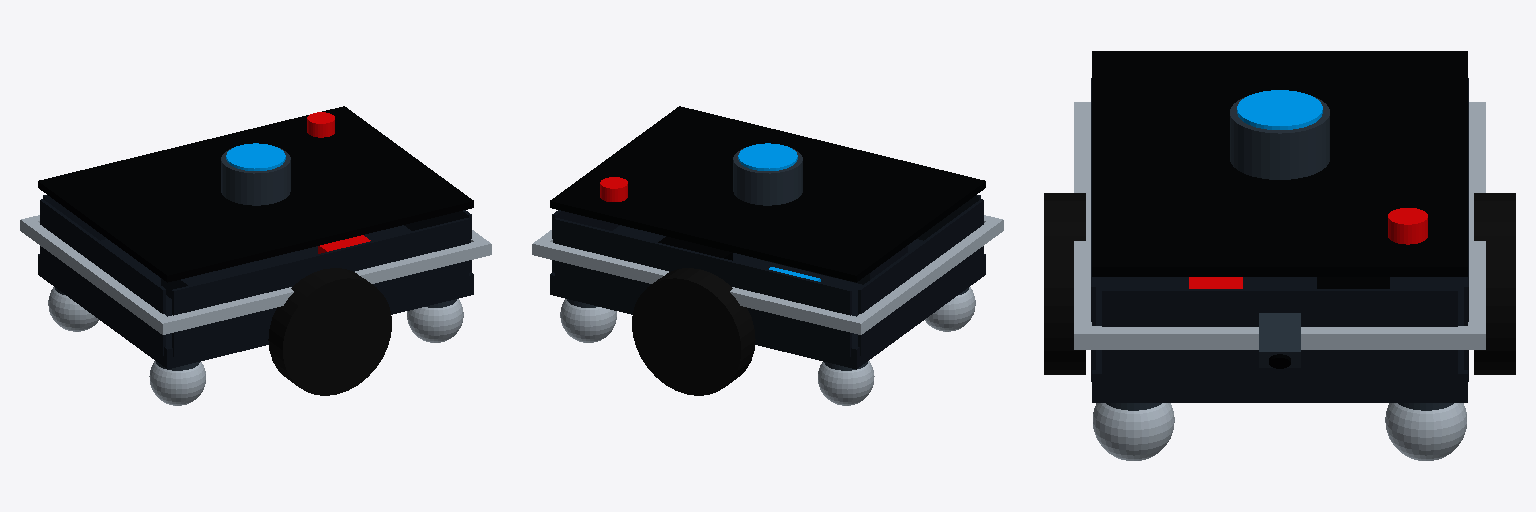
The robot description file, URDF, robot "agv_01":
<?xml version="1.0"?>
<robot name="agv_01">
  <!-- AGV-01 concept model: 600 L x 450 W x 320 H mm. Units are metres. -->
  <material name="aluminium"><color rgba="0.68 0.72 0.76 1"/></material>
  <material name="dark_panel"><color rgba="0.09 0.11 0.14 1"/></material>
  <material name="black"><color rgba="0.025 0.03 0.035 1"/></material>
  <material name="rubber"><color rgba="0.08 0.08 0.08 1"/></material>
  <material name="blue"><color rgba="0.0 0.65 1.0 1"/></material>
  <material name="red"><color rgba="0.9 0.03 0.04 1"/></material>
  <material name="sensor"><color rgba="0.18 0.22 0.26 1"/></material>

  <!-- Chassis origin is at the geometric centre of the base footprint, at floor level. -->
  <link name="base_link">
    <inertial><origin xyz="0 0 0.105"/><mass value="12.0"/><inertia ixx="0.45" ixy="0" ixz="0" iyy="0.75" iyz="0" izz="0.95"/></inertial>
    <visual><origin xyz="0 0 0.105"/><geometry><box size="0.56 0.41 0.035"/></geometry><material name="dark_panel"/></visual>
    <collision><origin xyz="0 0 0.105"/><geometry><box size="0.56 0.41 0.035"/></geometry></collision>
  </link>

  <!-- 20x20 mm aluminium extrusion perimeter: outer size 600 x 450 mm -->
  <link name="rail_left"><inertial><mass value="0.5"/><inertia ixx="0.01" ixy="0" ixz="0" iyy="0.01" iyz="0" izz="0.01"/></inertial><visual><origin xyz="0 0 0.17"/><geometry><box size="0.60 0.02 0.02"/></geometry><material name="aluminium"/></visual><collision><origin xyz="0 0 0.17"/><geometry><box size="0.60 0.02 0.02"/></geometry></collision></link>
  <joint name="rail_left_joint" type="fixed"><parent link="base_link"/><child link="rail_left"/><origin xyz="0 0.215 0"/></joint>
  <link name="rail_right"><inertial><mass value="0.5"/><inertia ixx="0.01" ixy="0" ixz="0" iyy="0.01" iyz="0" izz="0.01"/></inertial><visual><origin xyz="0 0 0.17"/><geometry><box size="0.60 0.02 0.02"/></geometry><material name="aluminium"/></visual><collision><origin xyz="0 0 0.17"/><geometry><box size="0.60 0.02 0.02"/></geometry></collision></link>
  <joint name="rail_right_joint" type="fixed"><parent link="base_link"/><child link="rail_right"/><origin xyz="0 -0.215 0"/></joint>
  <link name="rail_front"><inertial><mass value="0.35"/><inertia ixx="0.01" ixy="0" ixz="0" iyy="0.01" iyz="0" izz="0.01"/></inertial><visual><origin xyz="0 0 0.17"/><geometry><box size="0.02 0.41 0.02"/></geometry><material name="aluminium"/></visual><collision><origin xyz="0 0 0.17"/><geometry><box size="0.02 0.41 0.02"/></geometry></collision></link>
  <joint name="rail_front_joint" type="fixed"><parent link="base_link"/><child link="rail_front"/><origin xyz="0.29 0 0"/></joint>
  <link name="rail_rear"><inertial><mass value="0.35"/><inertia ixx="0.01" ixy="0" ixz="0" iyy="0.01" iyz="0" izz="0.01"/></inertial><visual><origin xyz="0 0 0.17"/><geometry><box size="0.02 0.41 0.02"/></geometry><material name="aluminium"/></visual><collision><origin xyz="0 0 0.17"/><geometry><box size="0.02 0.41 0.02"/></geometry></collision></link>
  <joint name="rail_rear_joint" type="fixed"><parent link="base_link"/><child link="rail_rear"/><origin xyz="-0.29 0 0"/></joint>

  <!-- Dark side enclosure panels -->
  <link name="left_panel"><inertial><mass value="1.0"/><inertia ixx="0.02" ixy="0" ixz="0" iyy="0.02" iyz="0" izz="0.02"/></inertial><visual><origin xyz="0 0 0.165"/><geometry><box size="0.54 0.006 0.115"/></geometry><material name="dark_panel"/></visual></link>
  <joint name="left_panel_joint" type="fixed"><parent link="base_link"/><child link="left_panel"/><origin xyz="0 0.204 0"/></joint>
  <link name="right_panel"><inertial><mass value="1.0"/><inertia ixx="0.02" ixy="0" ixz="0" iyy="0.02" iyz="0" izz="0.02"/></inertial><visual><origin xyz="0 0 0.165"/><geometry><box size="0.54 0.006 0.115"/></geometry><material name="dark_panel"/></visual></link>
  <joint name="right_panel_joint" type="fixed"><parent link="base_link"/><child link="right_panel"/><origin xyz="0 -0.204 0"/></joint>
  <link name="front_panel"><inertial><mass value="0.5"/><inertia ixx="0.01" ixy="0" ixz="0" iyy="0.01" iyz="0" izz="0.01"/></inertial><visual><origin xyz="0 0 0.165"/><geometry><box size="0.006 0.39 0.115"/></geometry><material name="dark_panel"/></visual></link>
  <joint name="front_panel_joint" type="fixed"><parent link="base_link"/><child link="front_panel"/><origin xyz="0.279 0 0"/></joint>
  <link name="rear_panel"><inertial><mass value="0.5"/><inertia ixx="0.01" ixy="0" ixz="0" iyy="0.01" iyz="0" izz="0.01"/></inertial><visual><origin xyz="0 0 0.165"/><geometry><box size="0.006 0.39 0.115"/></geometry><material name="dark_panel"/></visual></link>
  <joint name="rear_panel_joint" type="fixed"><parent link="base_link"/><child link="rear_panel"/><origin xyz="-0.279 0 0"/></joint>

  <!-- Top cover -->
  <link name="top_cover"><inertial><mass value="2.0"/><inertia ixx="0.1" ixy="0" ixz="0" iyy="0.1" iyz="0" izz="0.1"/></inertial><visual><origin xyz="0 0 0.245"/><geometry><box size="0.56 0.41 0.012"/></geometry><material name="black"/></visual><collision><origin xyz="0 0 0.245"/><geometry><box size="0.56 0.41 0.012"/></geometry></collision></link>
  <joint name="top_cover_joint" type="fixed"><parent link="base_link"/><child link="top_cover"/><origin xyz="0 0 0"/></joint>

  <!-- Differential drive wheels. Cylinder local axis is rotated to align with Y. -->
  <link name="left_drive_wheel"><inertial><origin xyz="0 0 0"/><mass value="2.0"/><inertia ixx="0.012" ixy="0" ixz="0" iyy="0.006" iyz="0" izz="0.012"/></inertial><visual><origin rpy="1.57079632679 0 0"/><geometry><cylinder radius="0.10" length="0.045"/></geometry><material name="rubber"/></visual><collision><origin rpy="1.57079632679 0 0"/><geometry><cylinder radius="0.10" length="0.045"/></geometry></collision></link>
  <joint name="left_drive_joint" type="continuous"><parent link="base_link"/><child link="left_drive_wheel"/><origin xyz="0 0.235 0.10"/><axis xyz="0 1 0"/><limit effort="80" velocity="20"/><dynamics damping="0.05" friction="0.02"/></joint>
  <link name="right_drive_wheel"><inertial><origin xyz="0 0 0"/><mass value="2.0"/><inertia ixx="0.012" ixy="0" ixz="0" iyy="0.006" iyz="0" izz="0.012"/></inertial><visual><origin rpy="1.57079632679 0 0"/><geometry><cylinder radius="0.10" length="0.045"/></geometry><material name="rubber"/></visual><collision><origin rpy="1.57079632679 0 0"/><geometry><cylinder radius="0.10" length="0.045"/></geometry></collision></link>
  <joint name="right_drive_joint" type="continuous"><parent link="base_link"/><child link="right_drive_wheel"/><origin xyz="0 -0.235 0.10"/><axis xyz="0 1 0"/><limit effort="80" velocity="20"/><dynamics damping="0.05" friction="0.02"/></joint>

  <!-- Four ball caster assemblies for isotropic omnidirectional stability -->
  <link name="caster_front_left">
    <inertial><mass value="0.35"/><inertia ixx="0.001" ixy="0" ixz="0" iyy="0.001" iyz="0" izz="0.001"/></inertial>
    <visual><origin xyz="0 0 0.025" rpy="0 0 0"/><geometry><cylinder radius="0.035" length="0.03"/></geometry><material name="sensor"/></visual>
    <visual><origin xyz="0 0 0" rpy="0 0 0"/><geometry><sphere radius="0.045"/></geometry><material name="aluminium"/></visual>
    <collision><origin xyz="0 0 0" rpy="0 0 0"/><geometry><sphere radius="0.045"/></geometry></collision>
  </link>
  <joint name="caster_front_left_joint" type="fixed"><parent link="base_link"/><child link="caster_front_left"/><origin xyz="0.235 0.16 0.045"/></joint>

  <link name="caster_front_right">
    <inertial><mass value="0.35"/><inertia ixx="0.001" ixy="0" ixz="0" iyy="0.001" iyz="0" izz="0.001"/></inertial>
    <visual><origin xyz="0 0 0.025" rpy="0 0 0"/><geometry><cylinder radius="0.035" length="0.03"/></geometry><material name="sensor"/></visual>
    <visual><origin xyz="0 0 0" rpy="0 0 0"/><geometry><sphere radius="0.045"/></geometry><material name="aluminium"/></visual>
    <collision><origin xyz="0 0 0" rpy="0 0 0"/><geometry><sphere radius="0.045"/></geometry></collision>
  </link>
  <joint name="caster_front_right_joint" type="fixed"><parent link="base_link"/><child link="caster_front_right"/><origin xyz="0.235 -0.16 0.045"/></joint>

  <link name="caster_rear_left">
    <inertial><mass value="0.35"/><inertia ixx="0.001" ixy="0" ixz="0" iyy="0.001" iyz="0" izz="0.001"/></inertial>
    <visual><origin xyz="0 0 0.025" rpy="0 0 0"/><geometry><cylinder radius="0.035" length="0.03"/></geometry><material name="sensor"/></visual>
    <visual><origin xyz="0 0 0" rpy="0 0 0"/><geometry><sphere radius="0.045"/></geometry><material name="aluminium"/></visual>
    <collision><origin xyz="0 0 0" rpy="0 0 0"/><geometry><sphere radius="0.045"/></geometry></collision>
  </link>
  <joint name="caster_rear_left_joint" type="fixed"><parent link="base_link"/><child link="caster_rear_left"/><origin xyz="-0.235 0.16 0.045"/></joint>

  <link name="caster_rear_right">
    <inertial><mass value="0.35"/><inertia ixx="0.001" ixy="0" ixz="0" iyy="0.001" iyz="0" izz="0.001"/></inertial>
    <visual><origin xyz="0 0 0.025" rpy="0 0 0"/><geometry><cylinder radius="0.035" length="0.03"/></geometry><material name="sensor"/></visual>
    <visual><origin xyz="0 0 0" rpy="0 0 0"/><geometry><sphere radius="0.045"/></geometry><material name="aluminium"/></visual>
    <collision><origin xyz="0 0 0" rpy="0 0 0"/><geometry><sphere radius="0.045"/></geometry></collision>
  </link>
  <joint name="caster_rear_right_joint" type="fixed"><parent link="base_link"/><child link="caster_rear_right"/><origin xyz="-0.235 -0.16 0.045"/></joint>
  <!-- LiDAR at the centre of the top cover -->
  <link name="lidar_link"><inertial><mass value="0.35"/><inertia ixx="0.001" ixy="0" ixz="0" iyy="0.001" iyz="0" izz="0.001"/></inertial><visual><origin xyz="0 0 0.028"/><geometry><cylinder radius="0.055" length="0.056"/></geometry><material name="sensor"/></visual><visual><origin xyz="0 0 0.058"/><geometry><cylinder radius="0.047" length="0.006"/></geometry><material name="blue"/></visual></link>
  <joint name="lidar_joint" type="fixed"><parent link="base_link"/><child link="lidar_link"/><origin xyz="0 0 0.251"/></joint>

  <!-- Forward/downward-facing camera; +X is forward -->
  <link name="front_camera_link"><inertial><mass value="0.12"/><inertia ixx="0.0002" ixy="0" ixz="0" iyy="0.0002" iyz="0" izz="0.0002"/></inertial><visual><geometry><box size="0.055 0.045 0.035"/></geometry><material name="sensor"/></visual><visual><origin xyz="0.028 0 0" rpy="0 1.57079632679 0"/><geometry><cylinder radius="0.012" length="0.008"/></geometry><material name="black"/></visual></link>
  <joint name="front_camera_joint" type="fixed"><parent link="base_link"/><child link="front_camera_link"/><origin xyz="0.29 0 0.17" rpy="0 0.6108652382 0"/></joint>

  <!-- Internal electronics blocks: Pi, motor drivers, battery and DC-DC -->
  <link name="raspberry_pi_link"><inertial><mass value="0.08"/><inertia ixx="0.0001" ixy="0" ixz="0" iyy="0.0001" iyz="0" izz="0.0001"/></inertial><visual><geometry><box size="0.09 0.06 0.015"/></geometry><material name="blue"/></visual></link>
  <joint name="raspberry_pi_joint" type="fixed"><parent link="base_link"/><child link="raspberry_pi_link"/><origin xyz="-0.08 0.08 0.14"/></joint>
  <link name="motor_driver_link"><inertial><mass value="0.25"/><inertia ixx="0.001" ixy="0" ixz="0" iyy="0.001" iyz="0" izz="0.001"/></inertial><visual><geometry><box size="0.12 0.08 0.025"/></geometry><material name="black"/></visual></link>
  <joint name="motor_driver_joint" type="fixed"><parent link="base_link"/><child link="motor_driver_link"/><origin xyz="0.10 0.08 0.14"/></joint>
  <link name="battery_link"><inertial><mass value="2.0"/><inertia ixx="0.02" ixy="0" ixz="0" iyy="0.02" iyz="0" izz="0.02"/></inertial><visual><geometry><box size="0.20 0.12 0.055"/></geometry><material name="dark_panel"/></visual></link>
  <joint name="battery_joint" type="fixed"><parent link="base_link"/><child link="battery_link"/><origin xyz="-0.08 -0.07 0.14"/></joint>
  <link name="dc_dc_link"><inertial><mass value="0.18"/><inertia ixx="0.001" ixy="0" ixz="0" iyy="0.001" iyz="0" izz="0.001"/></inertial><visual><geometry><box size="0.08 0.06 0.025"/></geometry><material name="red"/></visual></link>
  <joint name="dc_dc_joint" type="fixed"><parent link="base_link"/><child link="dc_dc_link"/><origin xyz="0.13 -0.07 0.14"/></joint>

  <!-- Emergency stop button on the top cover -->
  <link name="emergency_stop_link"><inertial><mass value="0.06"/><inertia ixx="0.0001" ixy="0" ixz="0" iyy="0.0001" iyz="0" izz="0.0001"/></inertial><visual><origin xyz="0 0 0.012"/><geometry><cylinder radius="0.022" length="0.024"/></geometry><material name="red"/></visual></link>
  <joint name="emergency_stop_joint" type="fixed"><parent link="base_link"/><child link="emergency_stop_link"/><origin xyz="0.20 0.14 0.251"/></joint>

</robot>

--- Facts derived from the render (not from the file) ---
Views: 3 orthographic renders of the robot side by side, from view 1: azimuth 30°, elevation 25°; view 2: azimuth 150°, elevation 25°; view 3: azimuth 270°, elevation 25°.
Model agv_01 with 23 links and 22 joints (2 continuous, 20 fixed), rooted at base_link, posed all joints at 0.
Links seen in each view (by area): view 1: top_cover, right_panel, right_drive_wheel, rear_panel, base_link, rail_right, lidar_link, rail_rear, caster_rear_right, caster_front_right, caster_rear_left, battery_link (+2 smaller); view 2: top_cover, left_panel, left_drive_wheel, rear_panel, base_link, rail_left, lidar_link, rail_rear, caster_rear_left, caster_front_left, caster_rear_right, emergency_stop_link (+2 smaller); view 3: top_cover, front_panel, base_link, lidar_link, rail_front, left_drive_wheel, right_drive_wheel, caster_front_left, caster_front_right, rail_left, rail_right, front_camera_link (+5 smaller).
Link boxes in pixels (x1,y1,x2,y2): top_cover: (38,106,473,282); right_panel: (172,218,468,356); right_drive_wheel: (268,268,391,395); rear_panel: (40,199,165,355); base_link: (38,225,473,369); rail_right: (156,239,491,334); lidar_link: (221,143,290,205); rail_rear: (27,222,166,329); caster_rear_right: (149,361,205,405); caster_front_right: (407,299,463,342); caster_rear_left: (48,287,98,331); battery_link: (161,253,296,298); top_cover: (550,106,985,282); left_panel: (555,218,851,356); left_drive_wheel: (632,268,755,395); rear_panel: (858,199,983,355); base_link: (550,225,985,369); rail_left: (532,239,867,334); lidar_link: (733,143,802,205); rail_rear: (857,222,996,329); caster_rear_left: (818,361,874,405); caster_front_left: (560,299,616,342); caster_rear_right: (925,287,975,331); emergency_stop_link: (600,177,627,201); top_cover: (1092,51,1467,276); front_panel: (1102,289,1457,386); base_link: (1092,277,1467,402); lidar_link: (1230,90,1329,179); rail_front: (1092,326,1467,349); left_drive_wheel: (1474,193,1515,374); right_drive_wheel: (1044,193,1085,374); caster_front_left: (1385,403,1466,460); caster_front_right: (1093,403,1174,460); rail_left: (1468,102,1485,349); rail_right: (1074,102,1091,349); front_camera_link: (1259,313,1300,368).
Size in the robot's own frame: 0.6231 by 0.515 by 0.312 metres.
Geometry: primitives only (box / cylinder / sphere), no mesh files.
